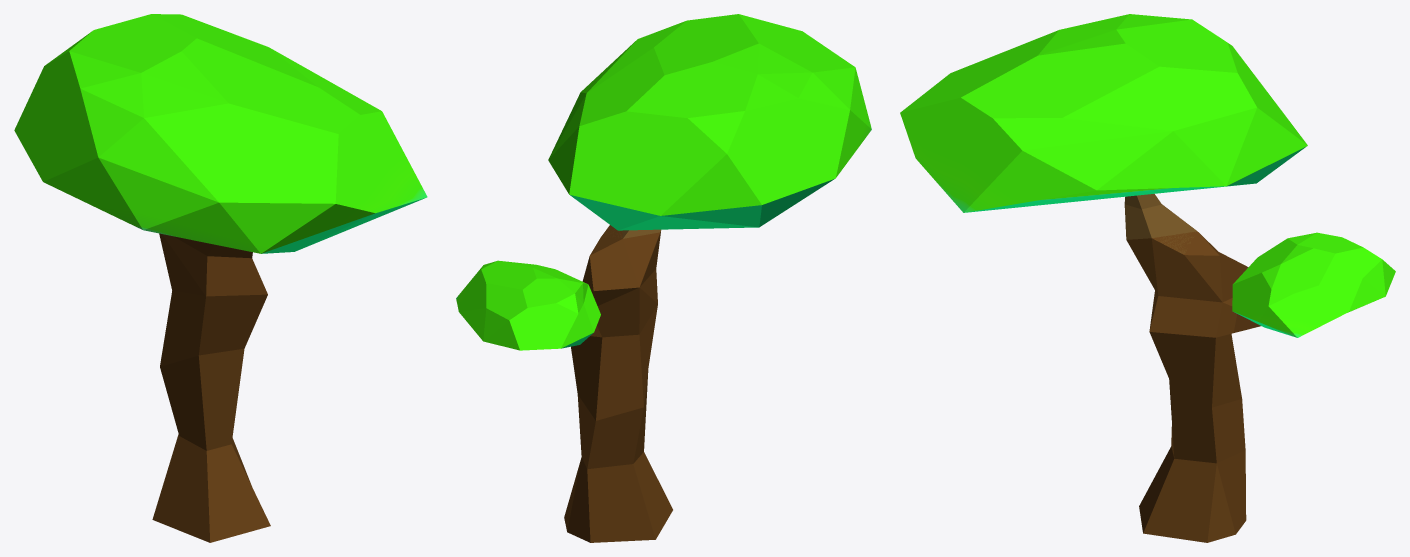
The model's file is Tree4.FBX.
3 views of the same model, side by side, from view 1: azimuth 30°, elevation 25°; view 2: azimuth 150°, elevation 25°; view 3: azimuth 270°, elevation 25° (orthographic). The views are drawn at different scales.
Parts seen in each view (by area): view 1: Tree07_LOD2; view 2: Tree07_LOD2; view 3: Tree07_LOD2.
Boxes of the visible parts, <box> form: Tree07_LOD2: <box>14,14,427,542</box>; Tree07_LOD2: <box>456,14,871,542</box>; Tree07_LOD2: <box>900,14,1395,542</box>.
Size of the model in its own units: 59.75 by 87.99 by 88.34.
